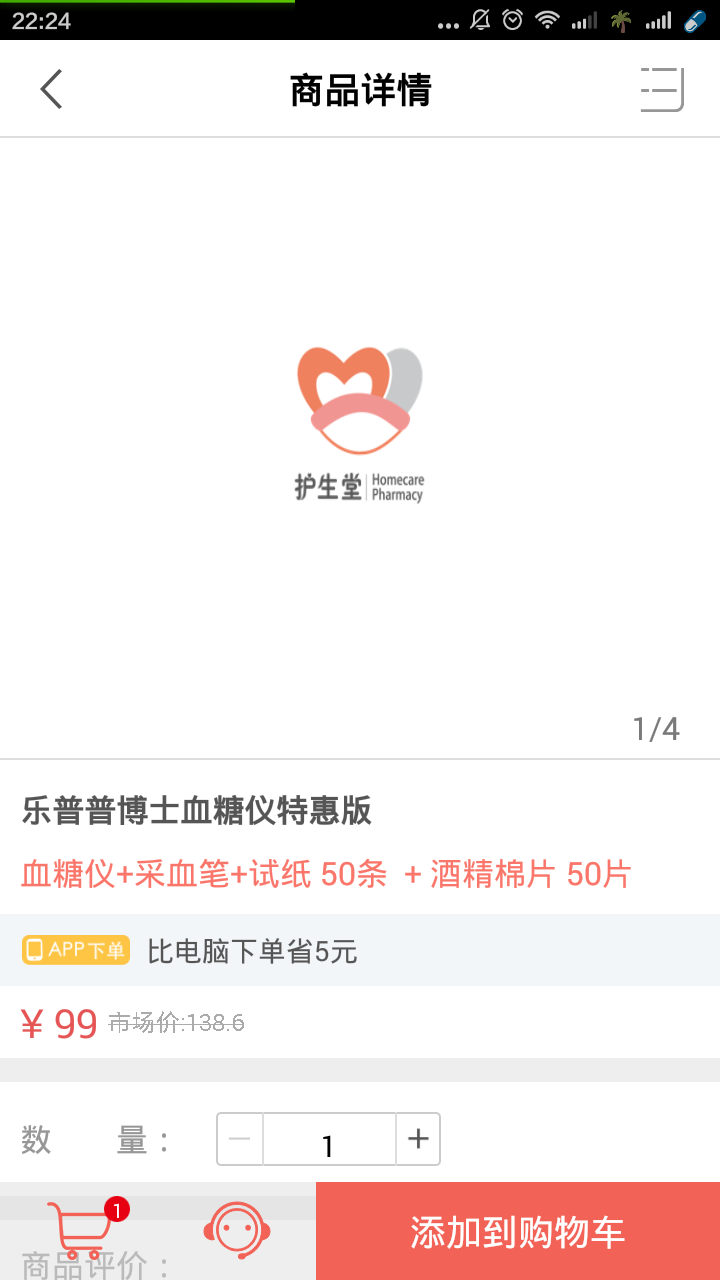button: (314, 1181, 720, 1279)
checkboxs: (200, 1102, 454, 1177)
imgbutton: (624, 59, 693, 126), (31, 66, 86, 117)
imgview: (269, 328, 461, 531)
nav: (1, 44, 720, 148), (10, 1189, 285, 1280)
textview: (10, 764, 720, 901), (8, 991, 720, 1063), (6, 923, 718, 987)
